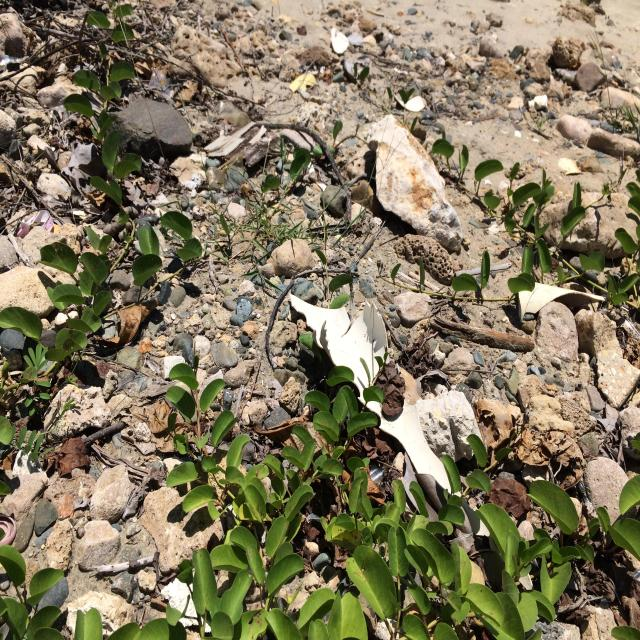litter: (287, 293, 463, 516)
